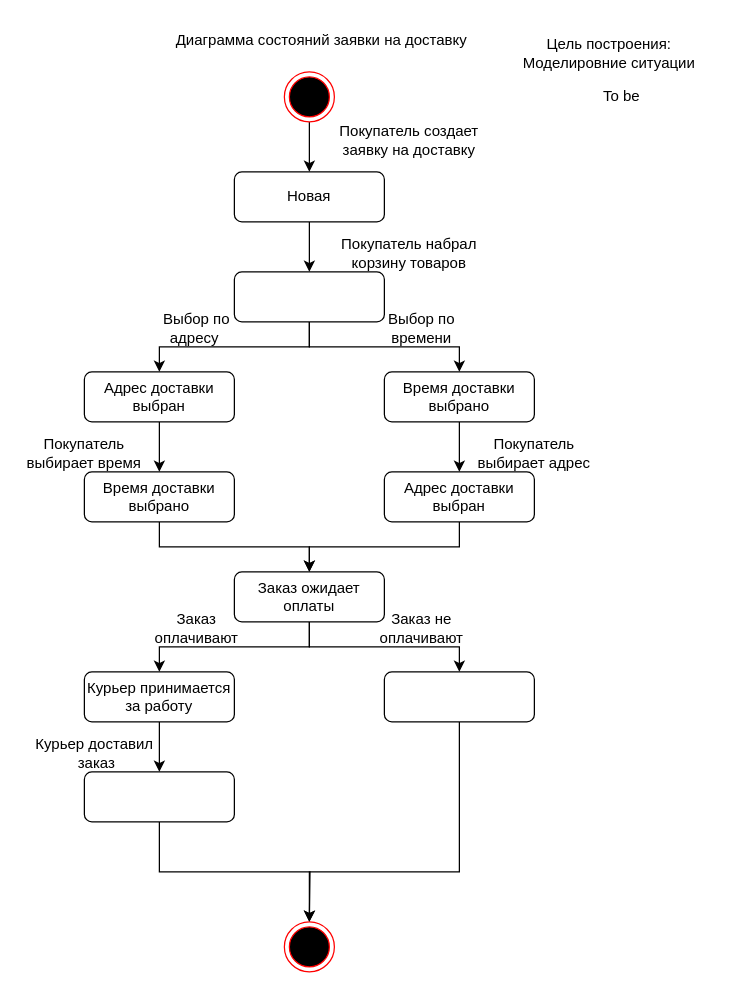
Some shapes in this 730 by 994 pixel diagram are drawn without their labels. The shapes that lost their labels are listed below. From the top down, each one's box as (x1, y1, x2, y2) in pixels, then its label:
(233, 271, 384, 322): Заказ сформирован
(383, 671, 534, 722): Заказ отменяется
(83, 771, 234, 822): Покупатель подтверждает получение
